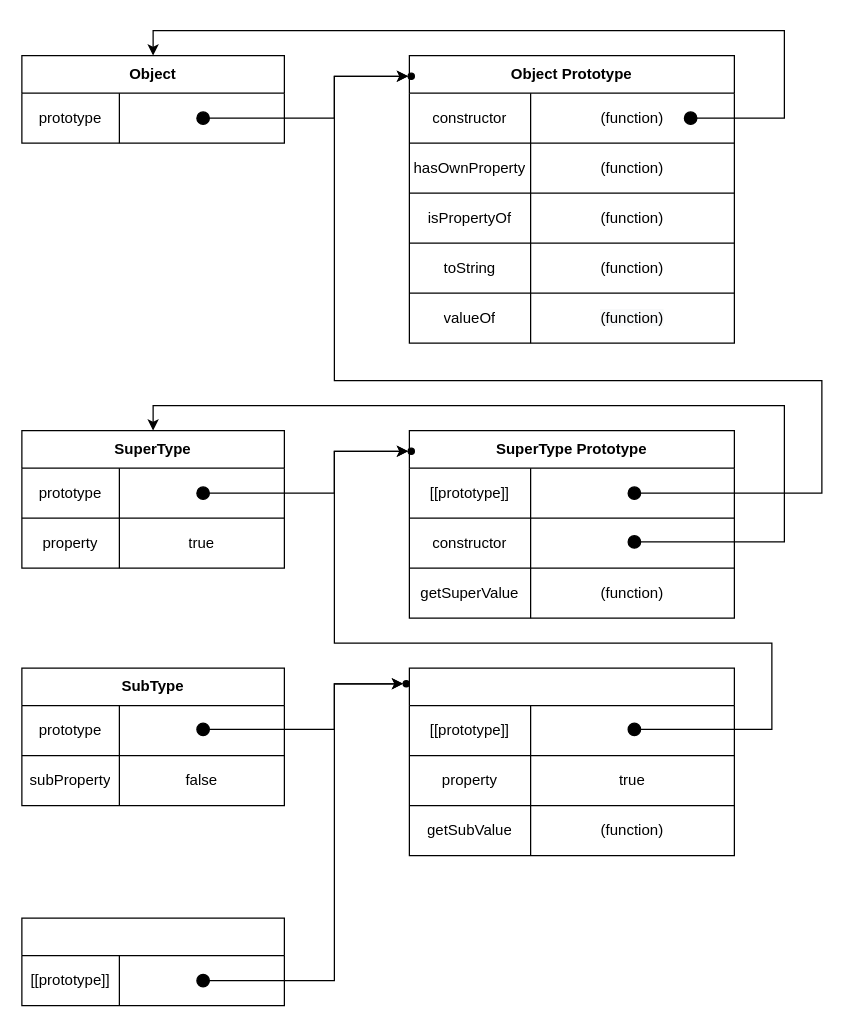
Some shapes in this 854 by 1028 pixel diagram are drawn without their labels. Here are the shapes that lost their labels. From the top down, the box of each, then its label:
(408, 667, 734, 856): SubType Prototype
(21, 917, 284, 1006): subInstance
